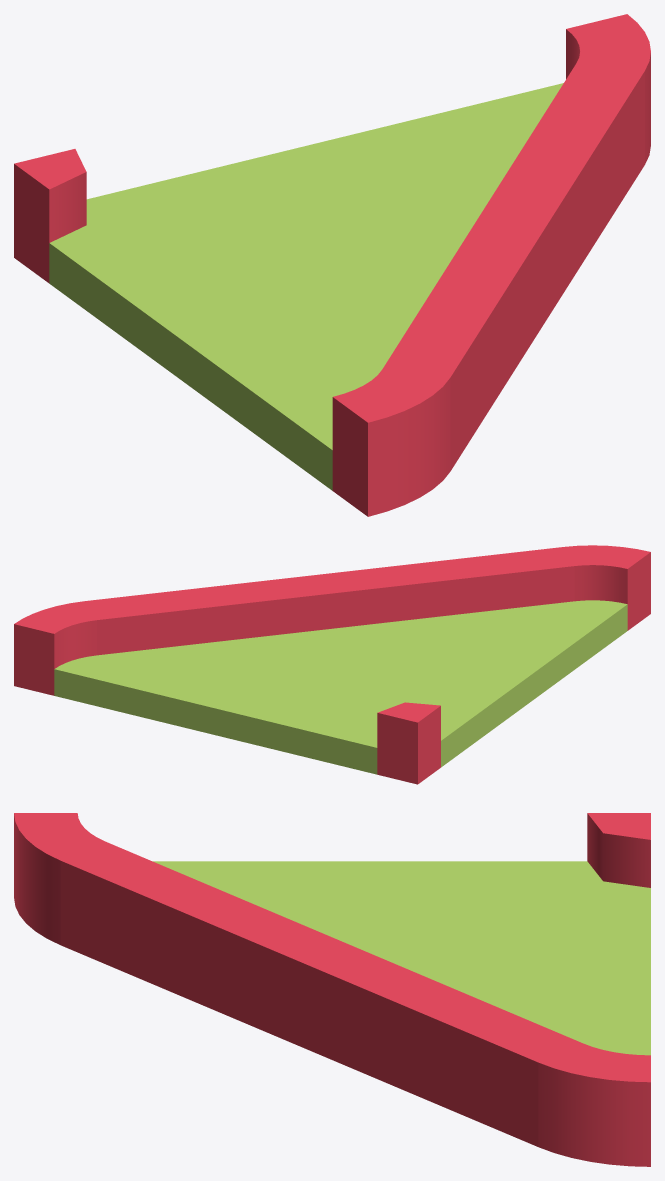
The model's file is skewCorner.fbx.
The picture shows the model from 3 angles, top to bottom: view 1: azimuth 30°, elevation 25°; view 2: azimuth 150°, elevation 25°; view 3: azimuth 270°, elevation 25°; orthographic projection. The views are drawn at different scales.
Visible parts, largest first — view 1: skewCorner; view 2: skewCorner; view 3: skewCorner.
Part boxes in pixels (x1,y1,x2,y2): skewCorner: (14, 14, 650, 516); skewCorner: (14, 545, 650, 784); skewCorner: (14, 813, 650, 1166).
Size of the model in its own units: 10 by 1.47 by 10.
